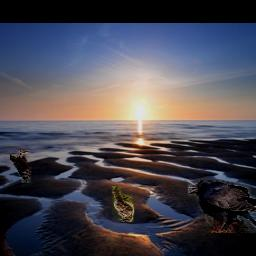Crow: (188, 181, 256, 234), (9, 151, 30, 184)
Sparrow: (112, 186, 134, 222)
